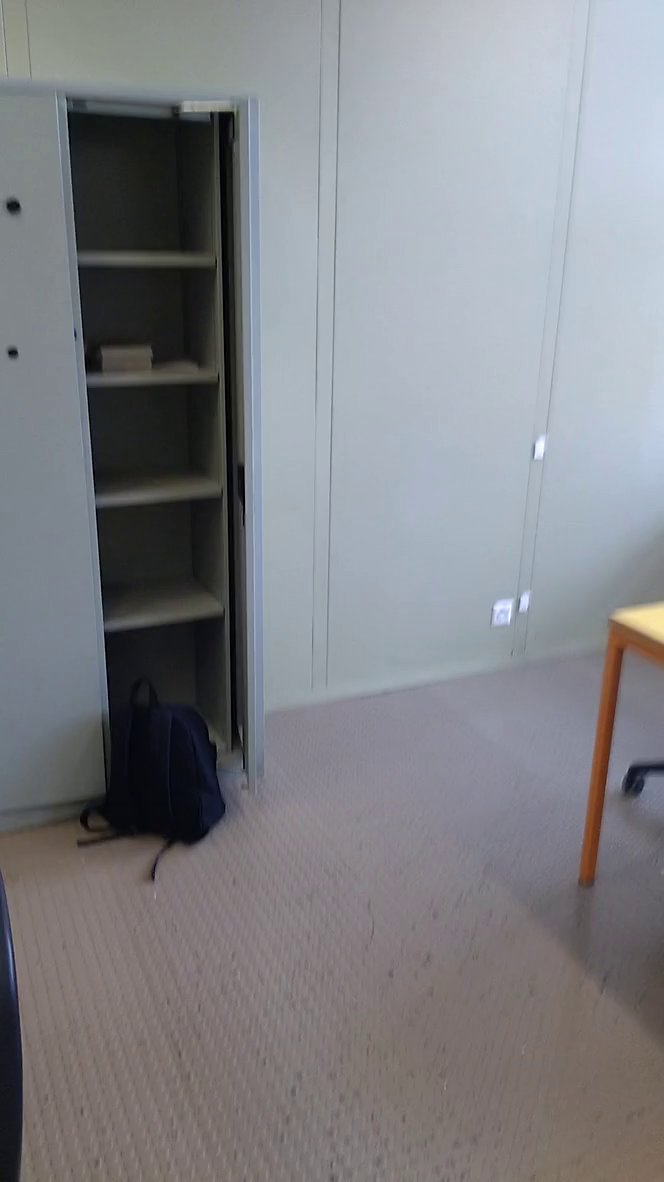bag: (75, 664, 238, 853)
